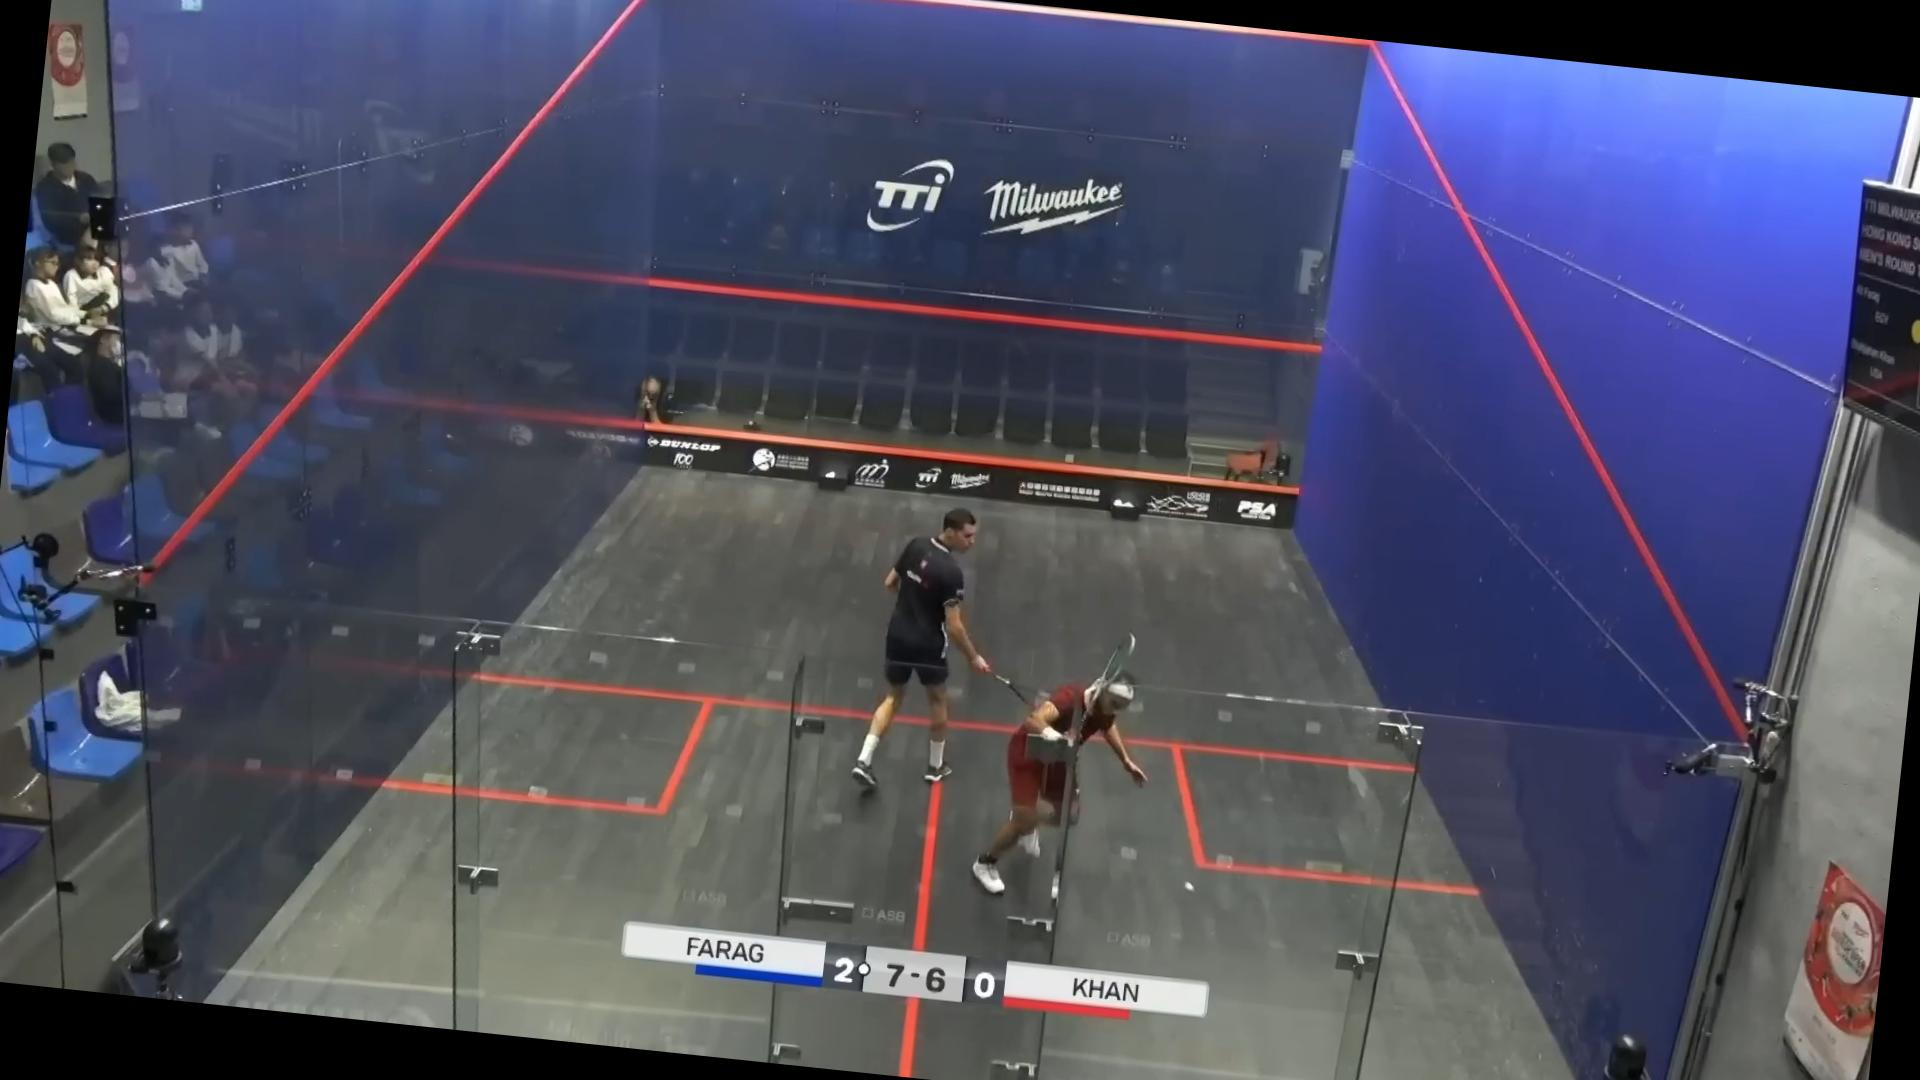Racket: (1076, 636, 1151, 754), (993, 658, 1058, 707)
